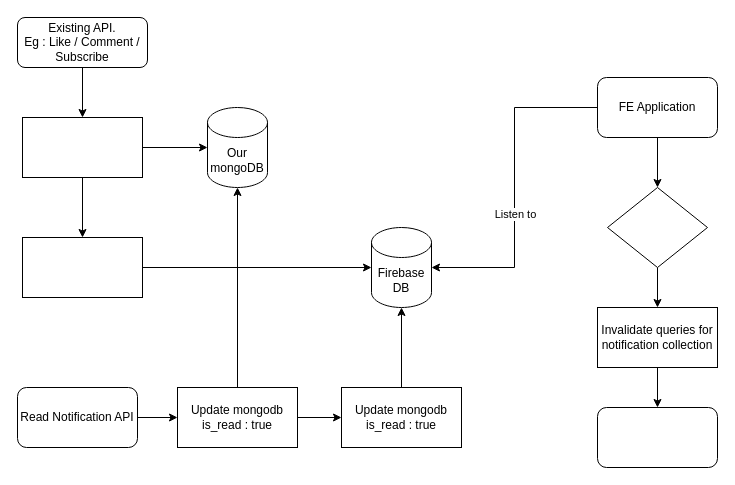
This 735x485 diagram has some shape labels left out. The centre of each missing label's shape, as x and y in pixels:
"Notification changes ?" goes at pixel 657 227.
"Show notification data" goes at pixel 657 437.
"Store notification to firebase" goes at pixel 82 267.
"Store notification to our database" goes at pixel 82 147.
